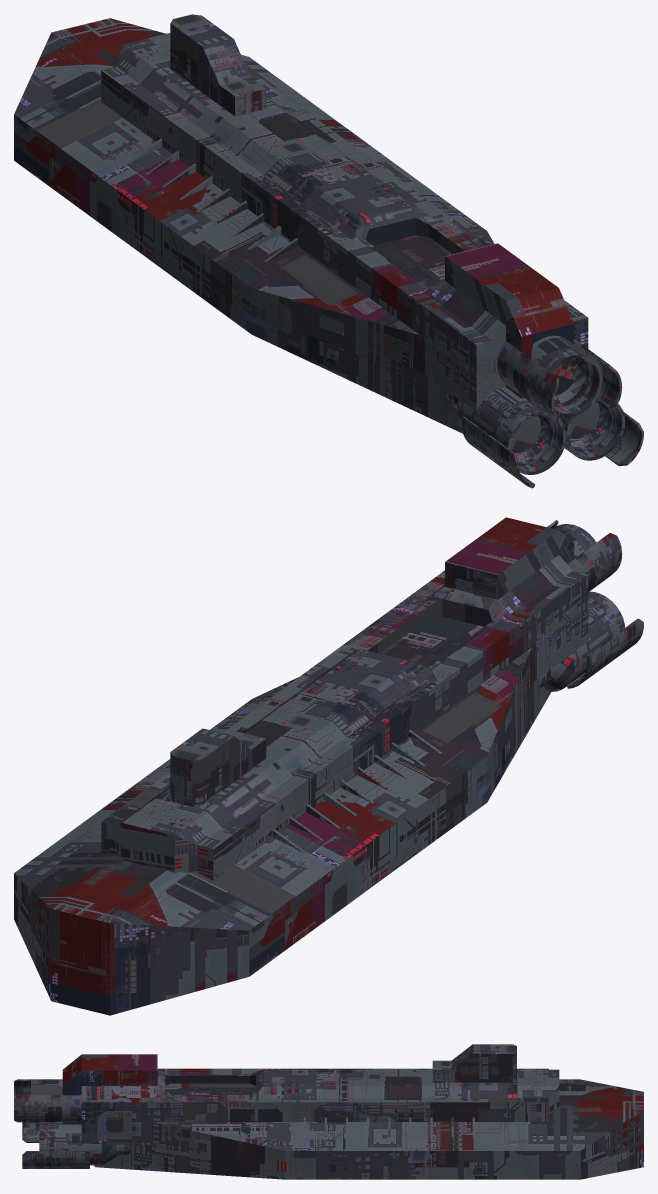
File: BigShip.fbx
3 renders of one model, top to bottom at view 1: azimuth 30°, elevation 25°; view 2: azimuth 150°, elevation 25°; view 3: azimuth 270°, elevation 25°, orthographic. The views are drawn at different scales.
Visible parts, largest first — view 1: Cube.001, Cylinder.004, Cylinder, Cylinder.001, Cylinder.002, Cylinder.005, Cylinder.003; view 2: Cube.001, Cylinder.004, Cylinder.001, Cylinder.005; view 3: Cube.001, Cylinder.001, Cylinder.002, Cylinder.003, Cylinder, Cylinder.005.
Part boxes in pixels (x1=…): Cube.001: x1=14, y1=14, x2=588, y2=433; Cylinder.004: x1=445, y1=387, x2=566, y2=474; Cylinder: x1=525, y1=335, x2=602, y2=417; Cylinder.001: x1=497, y1=339, x2=622, y2=421; Cylinder.002: x1=556, y1=399, x2=625, y2=460; Cylinder.005: x1=462, y1=417, x2=535, y2=488; Cylinder.003: x1=605, y1=412, x2=643, y2=466; Cube.001: x1=14, y1=517, x2=588, y2=1015; Cylinder.004: x1=538, y1=591, x2=624, y2=691; Cylinder.001: x1=547, y1=520, x2=622, y2=591; Cylinder.005: x1=567, y1=618, x2=643, y2=688; Cube.001: x1=62, y1=1044, x2=643, y2=1179; Cylinder.001: x1=14, y1=1079, x2=81, y2=1122; Cylinder.002: x1=39, y1=1123, x2=131, y2=1165; Cylinder.003: x1=22, y1=1151, x2=89, y2=1168; Cylinder: x1=31, y1=1079, x2=62, y2=1095; Cylinder.005: x1=22, y1=1122, x2=39, y2=1142.
Bounding box in the file's own units: 800 × 570 × 2980.
